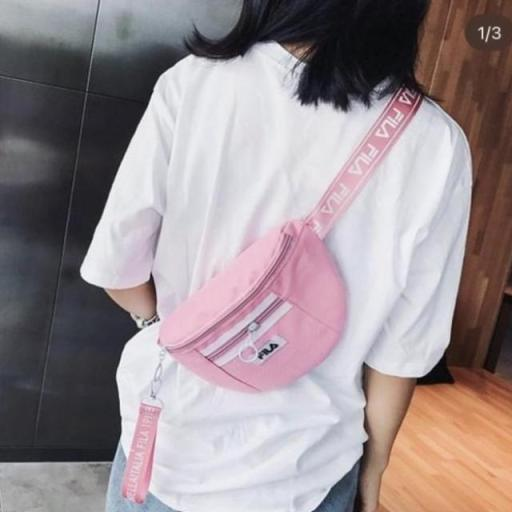bag: (150, 192, 356, 394)
